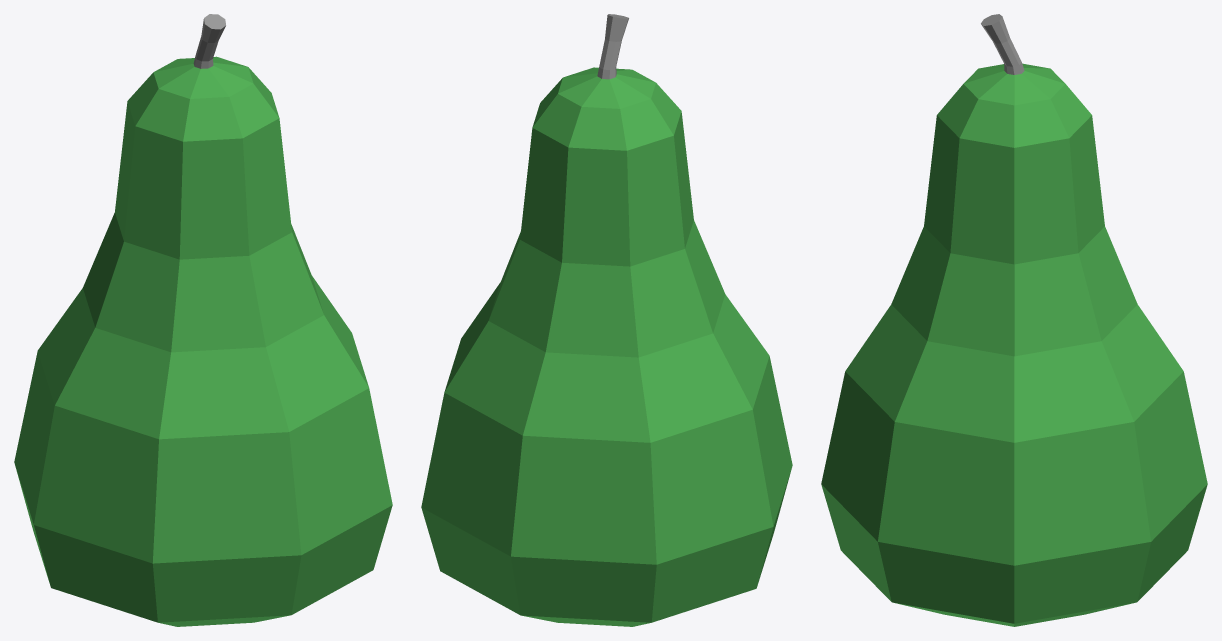
The model's file is pear.FBX.
3 renders of one model, left to right at view 1: azimuth 30°, elevation 25°; view 2: azimuth 150°, elevation 25°; view 3: azimuth 270°, elevation 25°, orthographic.
Visible parts, largest first — view 1: default; view 2: default; view 3: default.
Boxes of the visible parts, x1=… form: default: x1=14, y1=14, x2=392, y2=626; default: x1=421, y1=14, x2=792, y2=626; default: x1=821, y1=14, x2=1207, y2=626.
Size of the model in its own units: 7.69 by 12.64 by 7.69.
